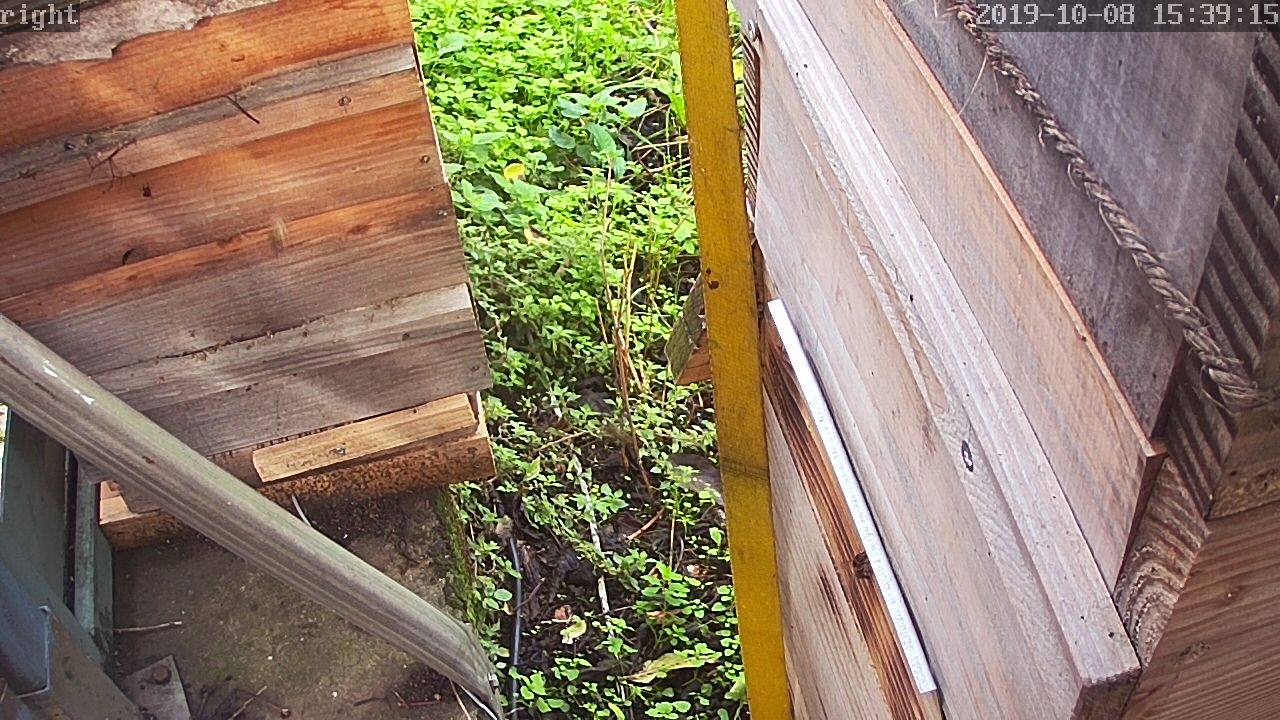bee: (841, 537, 876, 575)
hornet: (708, 546, 743, 598), (659, 140, 693, 185)
